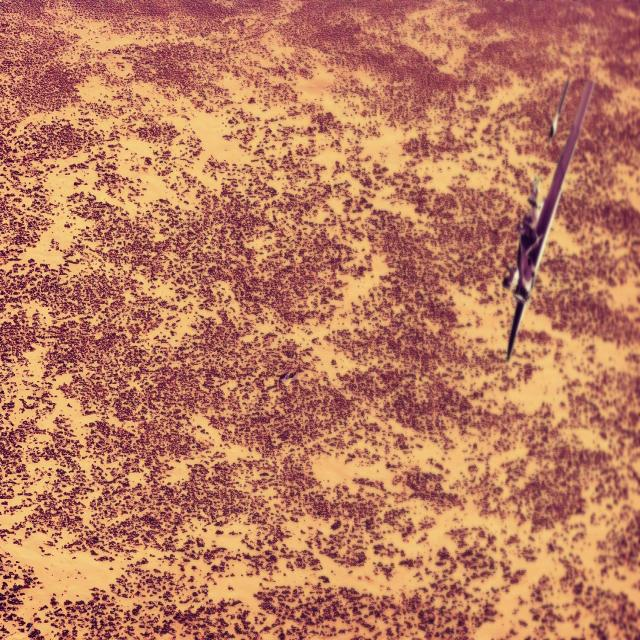airplane: (502, 77, 594, 362)
